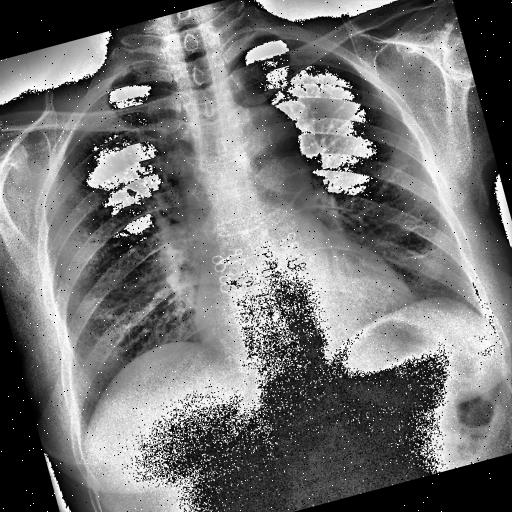0- Aortic enlargement: (222, 95, 316, 204), (214, 96, 312, 198), (222, 92, 314, 198)
13- Pulmonary fibrosis: (402, 246, 438, 262)
3- Cardiomegaly: (188, 250, 424, 373)
